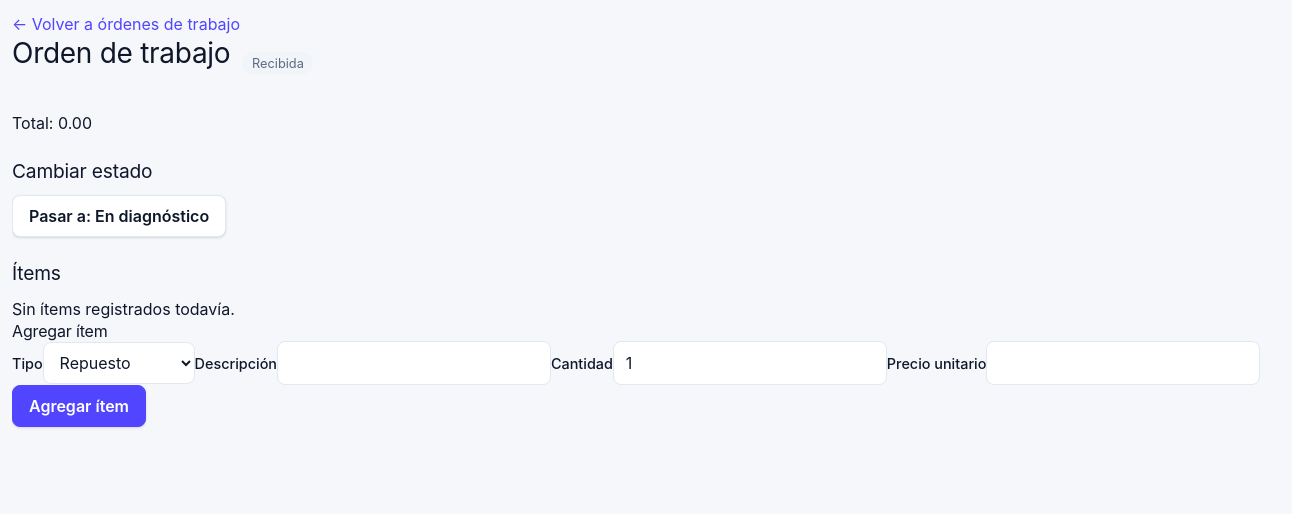
WorkOrderDetailPage › agrega un ítem y recarga la orden
The image size is (1292, 514).
Check: the text "Sin ítems registrados todavía." is shown, box [12,299,235,319]
Type "Filtro" into the field labelled "Descripción".
click(414, 363); type("Filtro")  # box [277,341,551,385]
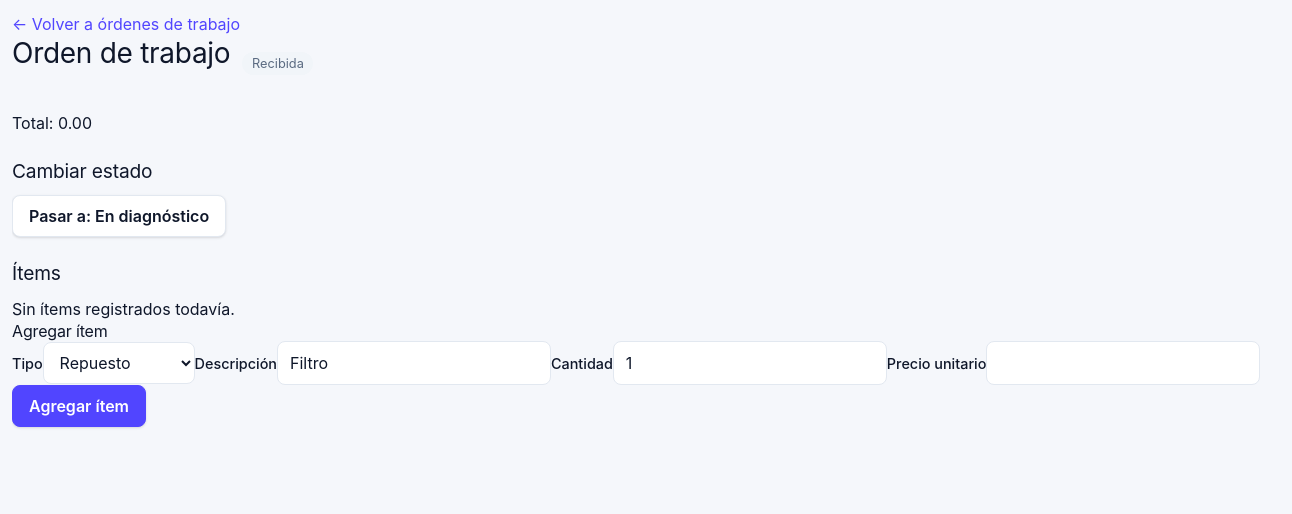
Type "15.00" into the number field labelled "Precio unitario".
click(1123, 363); type("15.00")  # box [986,341,1260,385]
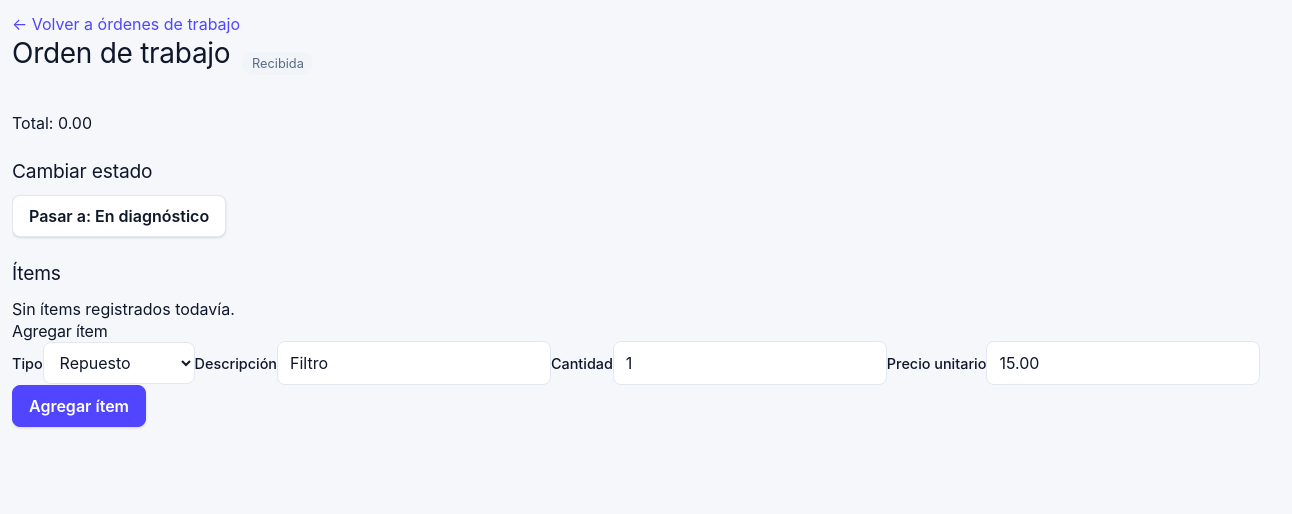
Click the button "Agregar ítem".
click(79, 406)  # box [12,385,146,427]
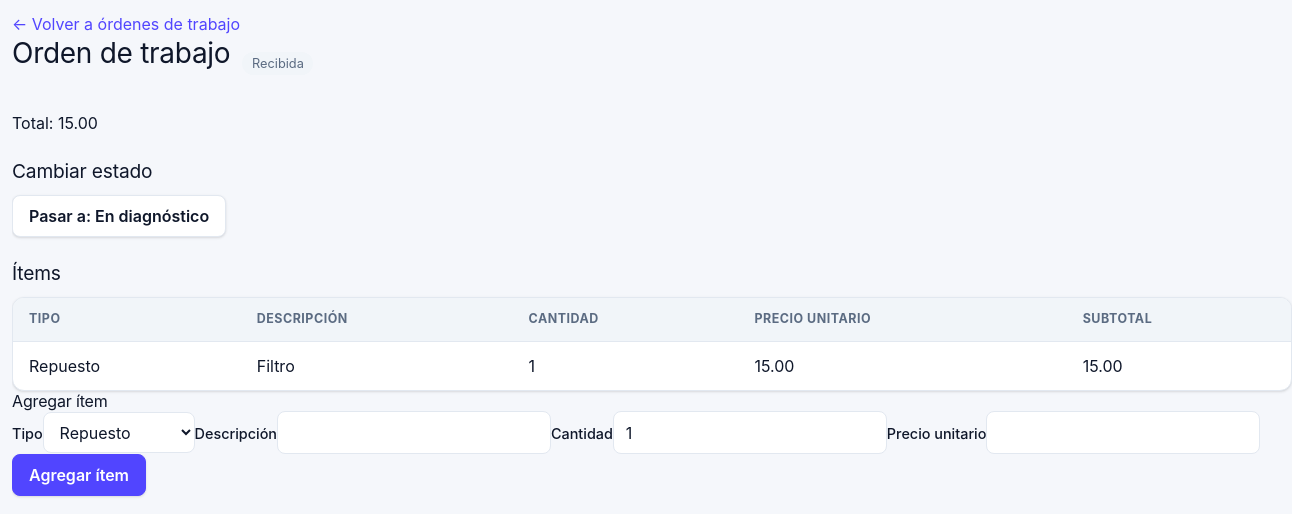
Check: the text "Filtro" is shown, box [241,342,512,390]
